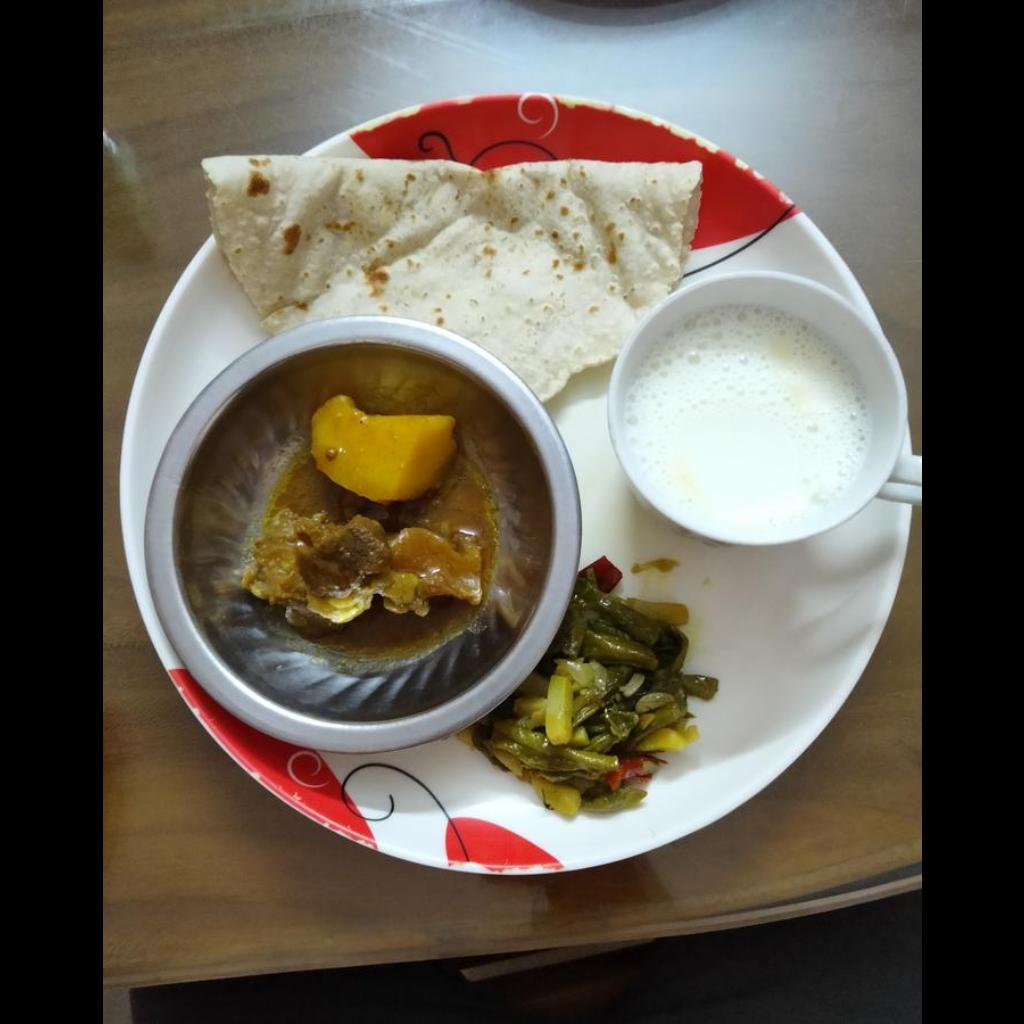beef: (237, 513, 487, 629)
milk: (622, 309, 859, 523)
potato: (310, 395, 455, 504)
ruti: (198, 158, 701, 403)
vaji: (467, 559, 722, 809)
